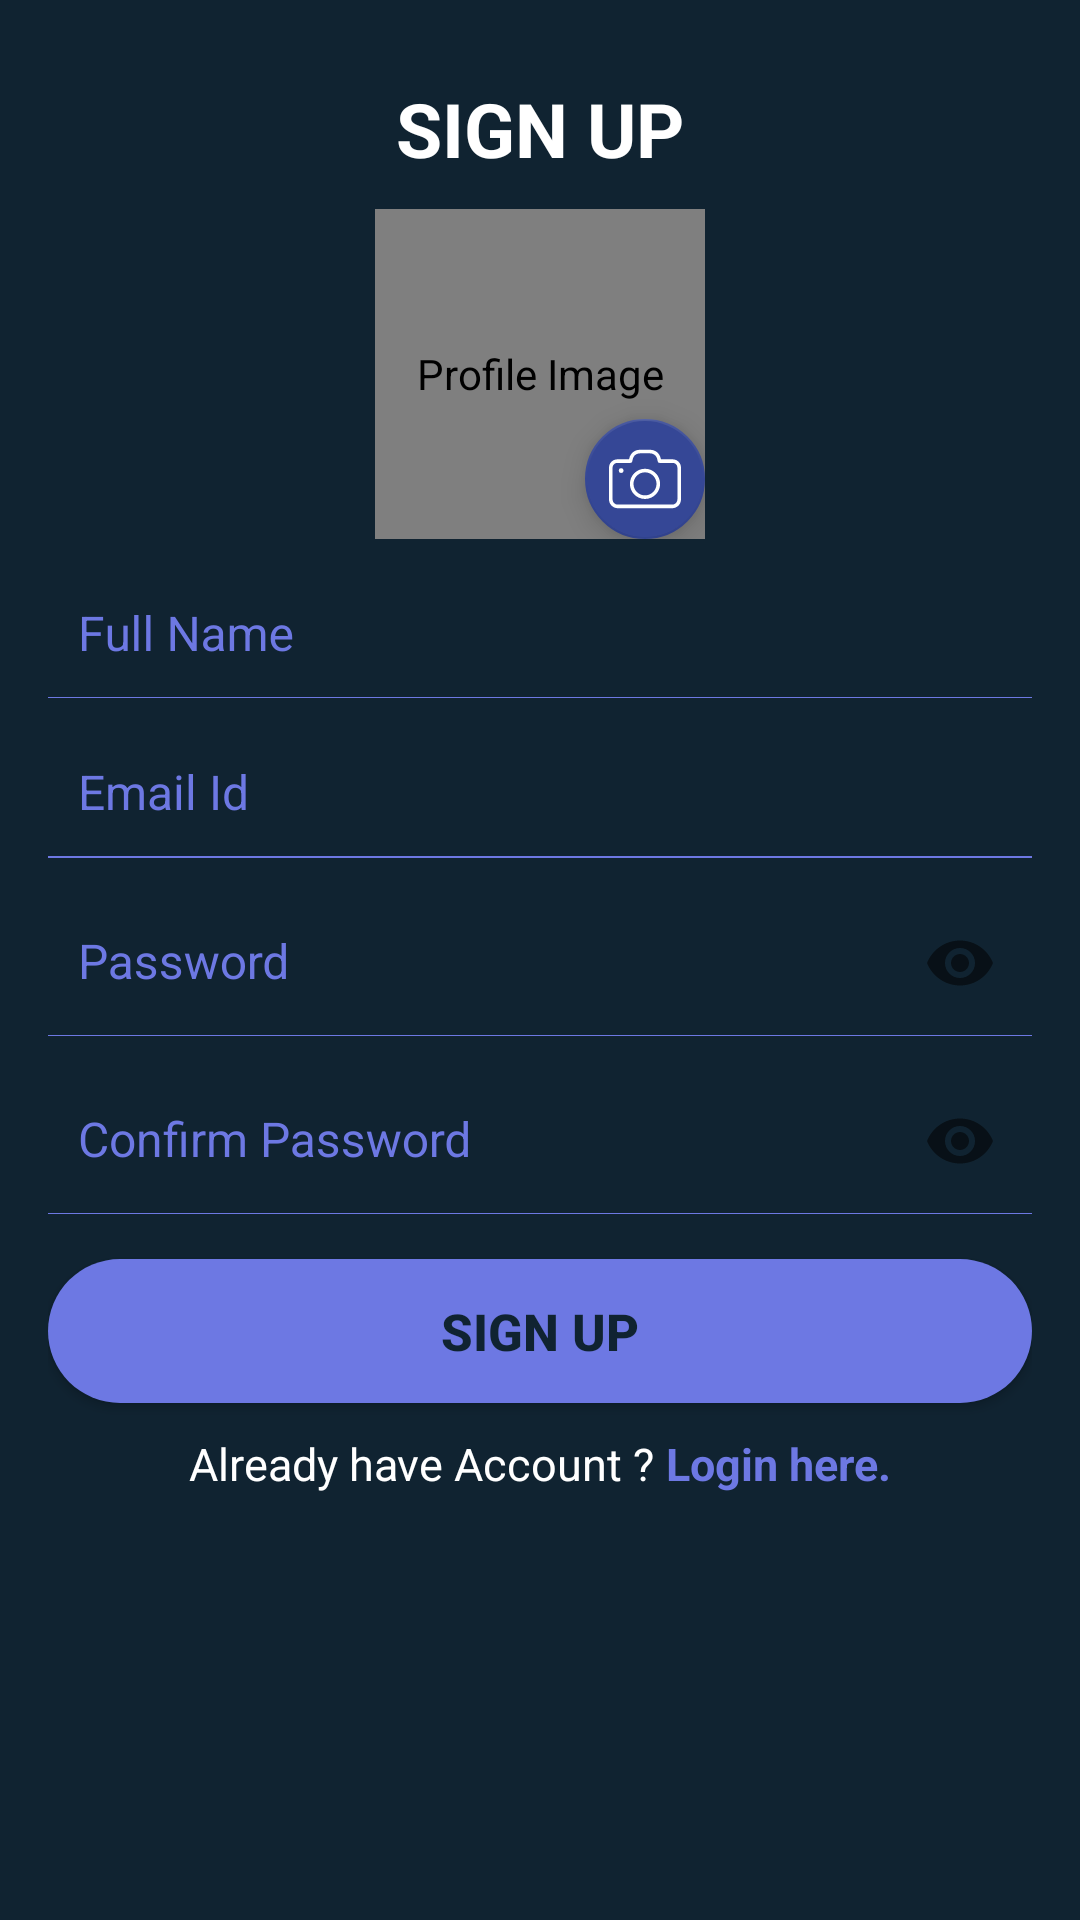

Where to tap for icons on this 1080px×1920px app screen, as point (x, y):
Choose image to upload: point (645, 479)
